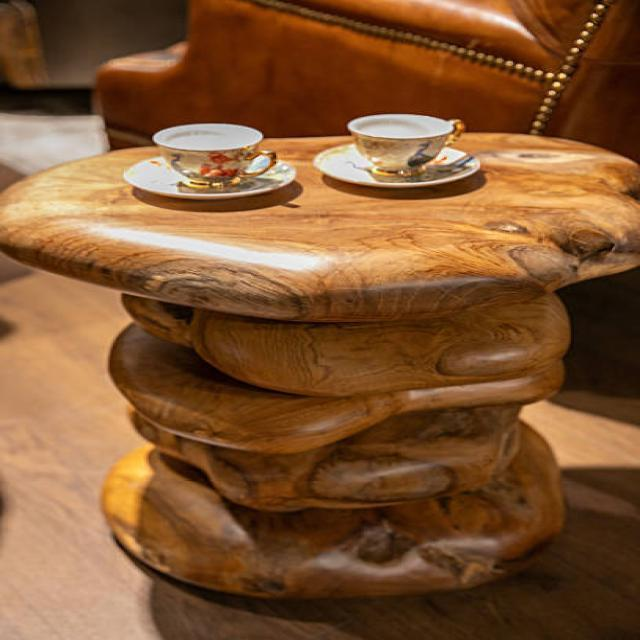table: (0, 128, 638, 600)
